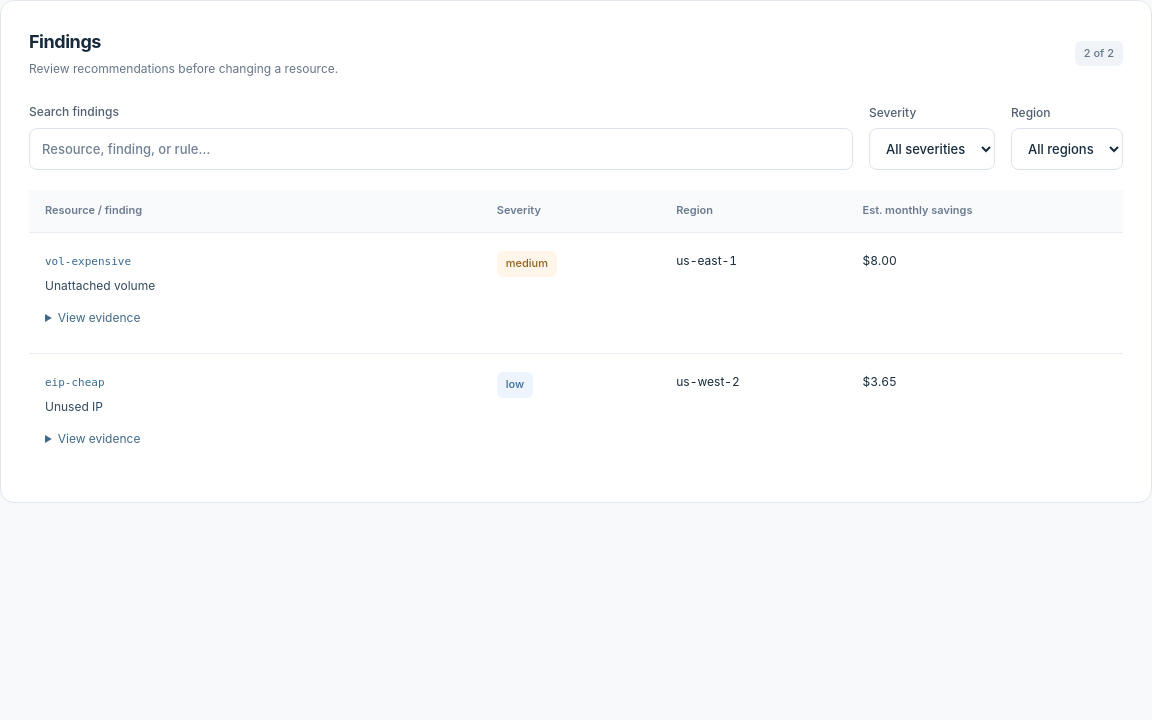
it: findings search combines with existing filters and resets cleanly
Type "vol-expensive" into the search field labelled "Search findings". click: (441, 149)
box: [29, 128, 853, 170]
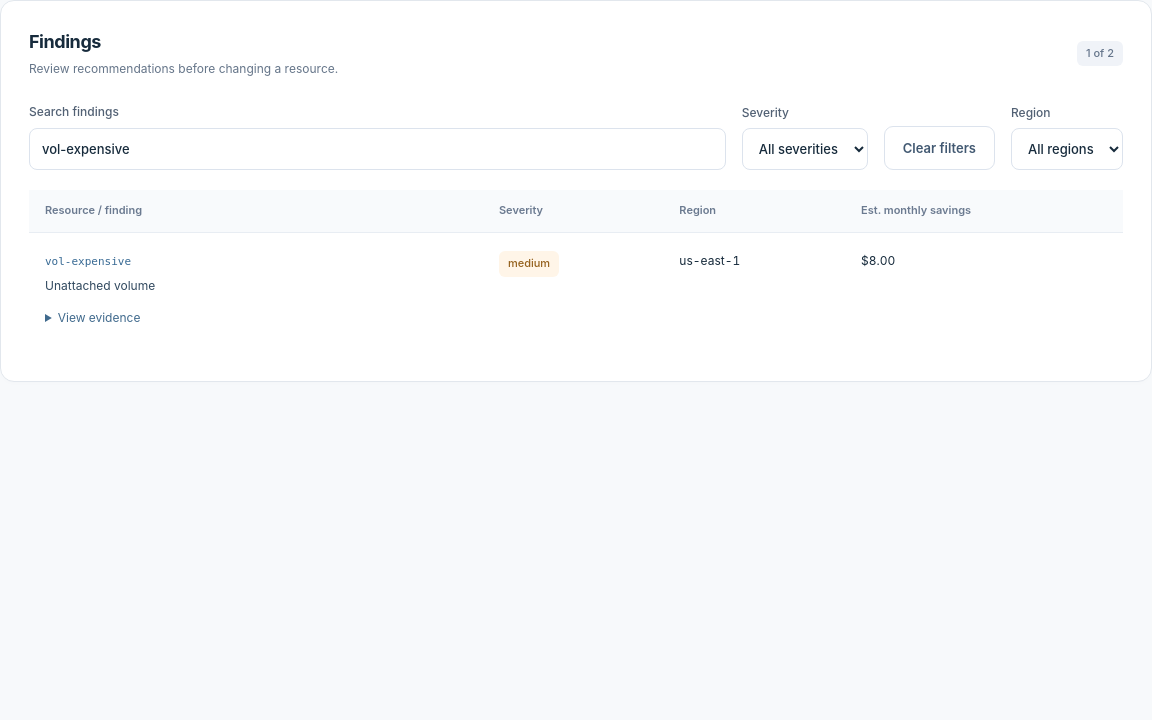
Check: the text "eip-cheap" is gone
Select "low" in the dropdown labelled "Severity". click: (805, 149)
box: [742, 128, 868, 170]
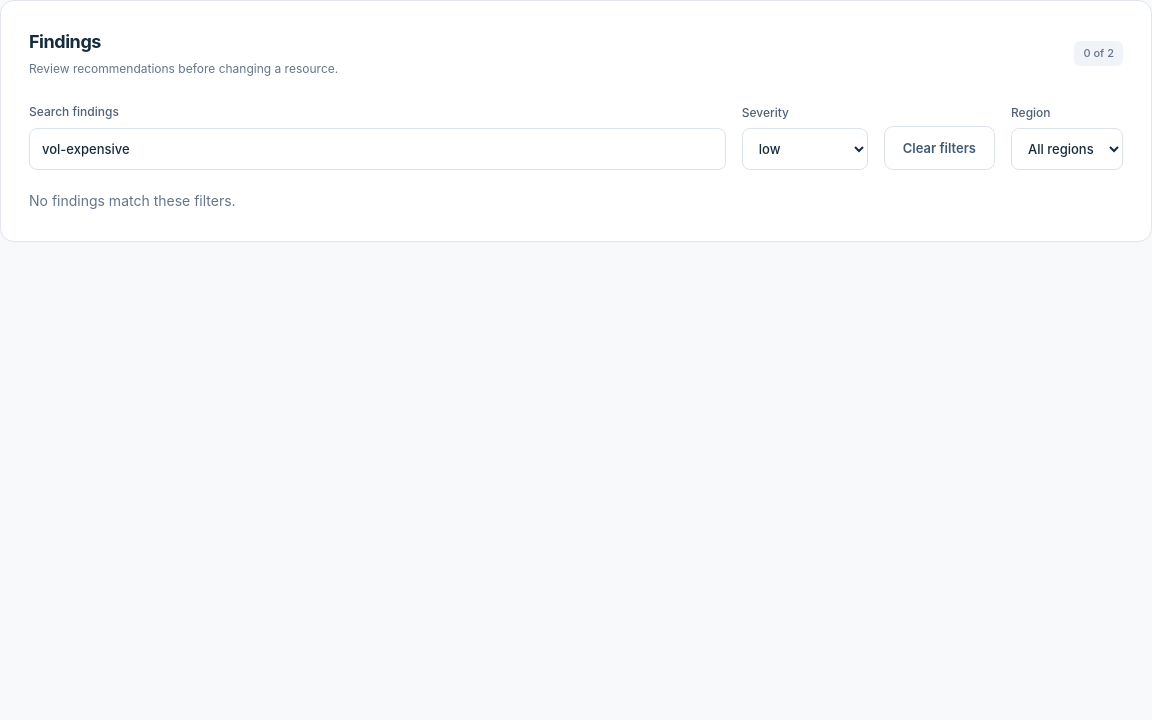
Check: the text "No findings match these filters." is shown, box [29, 192, 236, 209]
Click the button "Clear filters". click: (939, 148)
box: [884, 126, 995, 170]
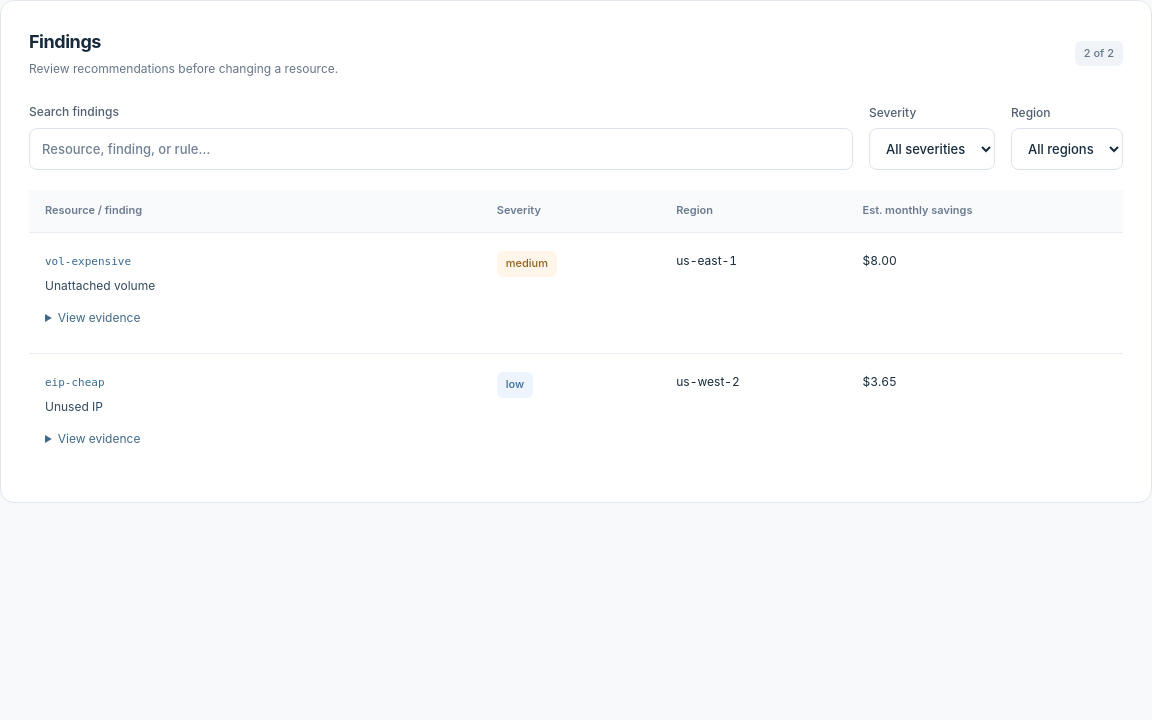
Check: the text "vol-expensive" is shown, box [45, 255, 131, 268]
Check: the text "eip-cheap" is shown, box [45, 376, 105, 389]
